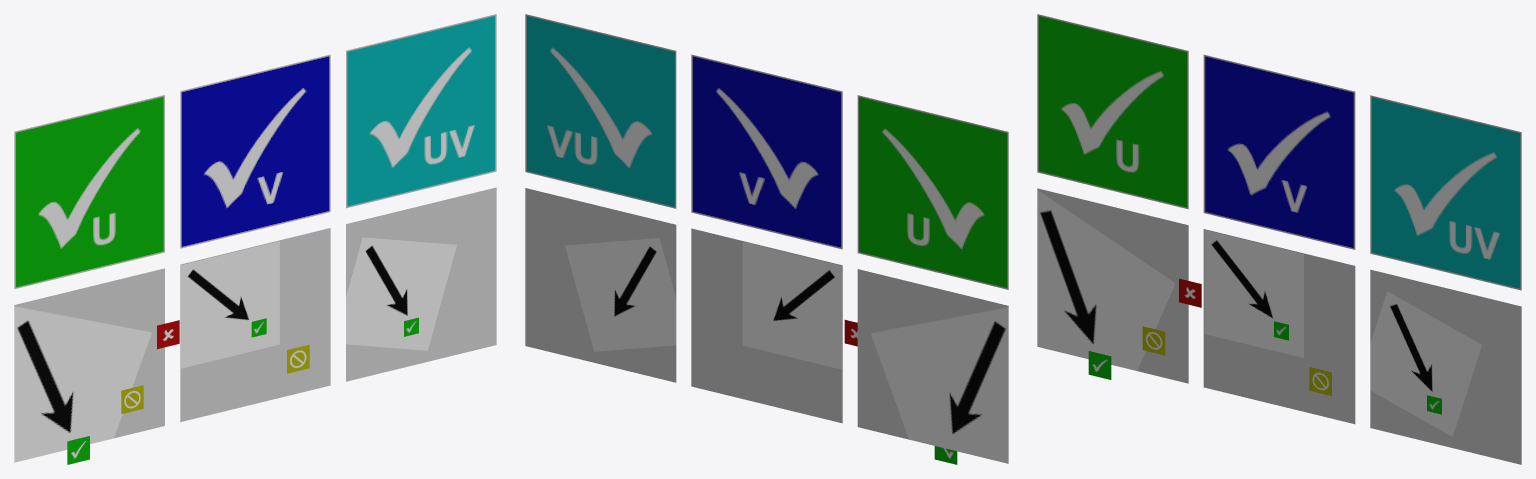
3 views of the same model, side by side, from view 1: azimuth 30°, elevation 25°; view 2: azimuth 150°, elevation 25°; view 3: azimuth 330°, elevation 25° (orthographic).
Parts seen in each view (by area): view 1: Offset U, Offset V, Offset UV, All, Scale, Rotation, Rotation - Error, Scale - Not Supported, Rotation - Correct, Rotation - Not Supported; view 2: Offset V, Rotation, Scale, Offset U, All, Offset UV; view 3: Offset V, Offset U, Offset UV, All, Scale, Rotation, Rotation - Correct, Rotation - Not Supported, Rotation - Error, Scale - Not Supported.
Part boxes in pixels (box(x1,y1,x2,y2)): Offset U: box(14, 95, 164, 289); Offset V: box(180, 54, 330, 248); Offset UV: box(346, 14, 496, 208); All: box(346, 187, 496, 381); Scale: box(180, 228, 330, 421); Rotation: box(14, 268, 164, 462); Rotation - Error: box(157, 320, 179, 349); Scale - Not Supported: box(287, 344, 309, 373); Rotation - Correct: box(67, 436, 89, 464); Rotation - Not Supported: box(121, 385, 143, 413); Offset V: box(691, 54, 842, 249); Rotation: box(857, 269, 1008, 463); Scale: box(691, 228, 842, 423); Offset U: box(857, 95, 1008, 289); All: box(525, 188, 676, 382); Offset UV: box(525, 14, 676, 208); Offset V: box(1203, 54, 1355, 249); Offset U: box(1037, 14, 1188, 209); Offset UV: box(1370, 95, 1521, 290); All: box(1370, 269, 1521, 464); Scale: box(1203, 229, 1355, 424); Rotation: box(1037, 188, 1188, 383); Rotation - Correct: box(1088, 351, 1111, 379); Rotation - Not Supported: box(1142, 326, 1165, 355); Rotation - Error: box(1179, 278, 1201, 307); Scale - Not Supported: box(1309, 367, 1331, 395).
Size of the model in its own units: 3.2 by 2.19 by 0.01.
Materials: 9 (9 with a texture image).
